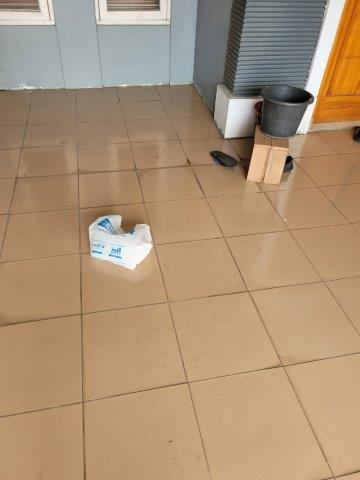plastik: (88, 215, 152, 271)
